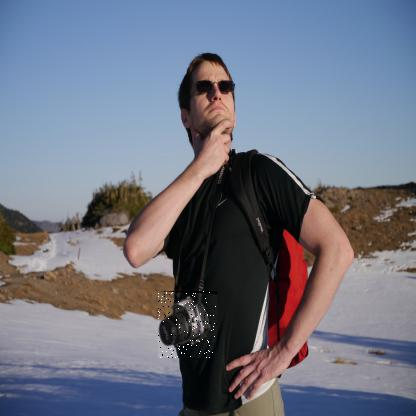Camera: (160, 292, 220, 360)
